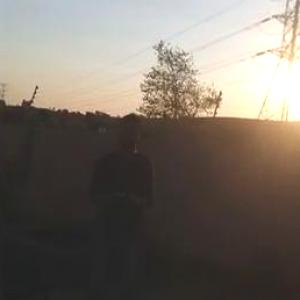follow: (85, 103, 171, 299)
